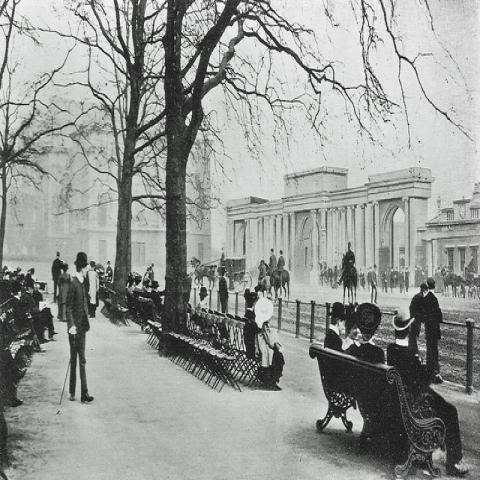car: (214, 258, 252, 293)
